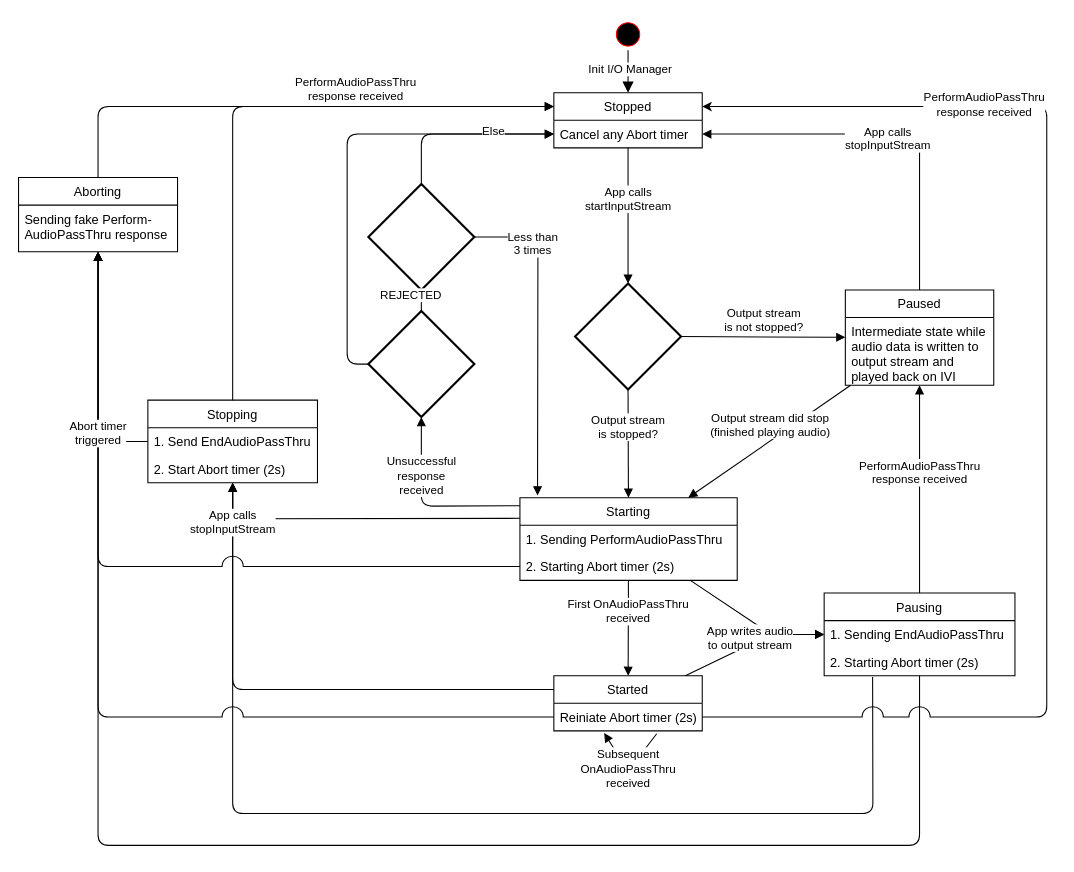
The diagram is 1074 pixels wide and 872 high, and some of its shapes have lost their labels. Here are the shapes that lost their labels. From the top down, the centre of each, then its label:
At (421,236): "How many times?".
At (627,336): "Output stream state?".
At (421,364): "Result Type?".
